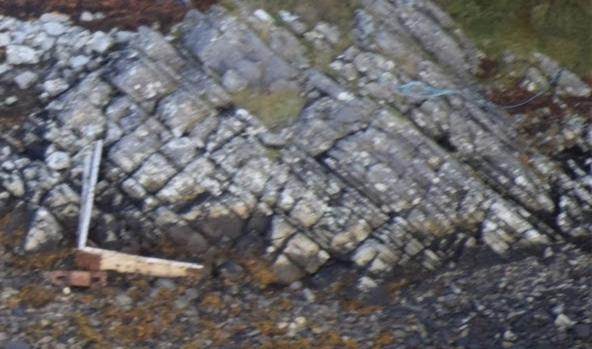net: (398, 75, 473, 101)
straight_bar: (74, 243, 208, 282), (71, 137, 104, 250)
tube: (500, 90, 546, 111), (543, 64, 566, 92)
